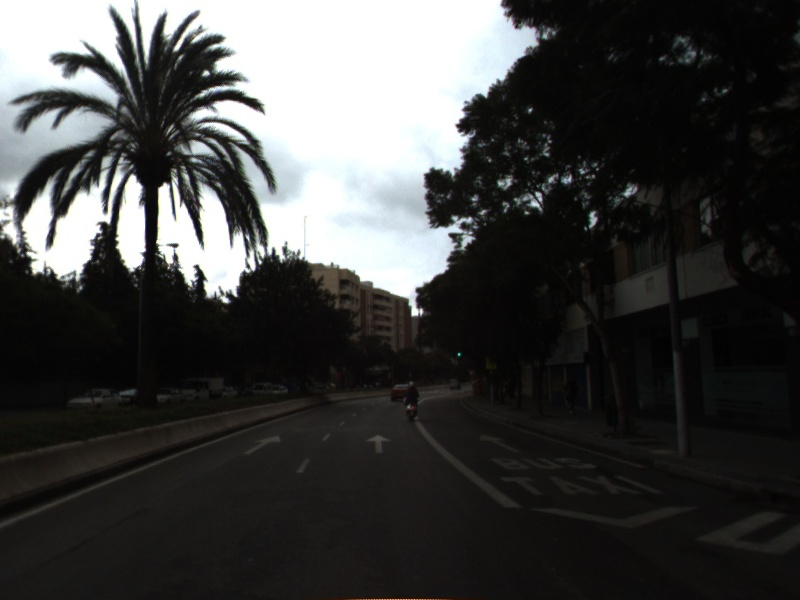STRAIGHT: (241, 432, 282, 456), (478, 432, 521, 454), (364, 433, 393, 455)
